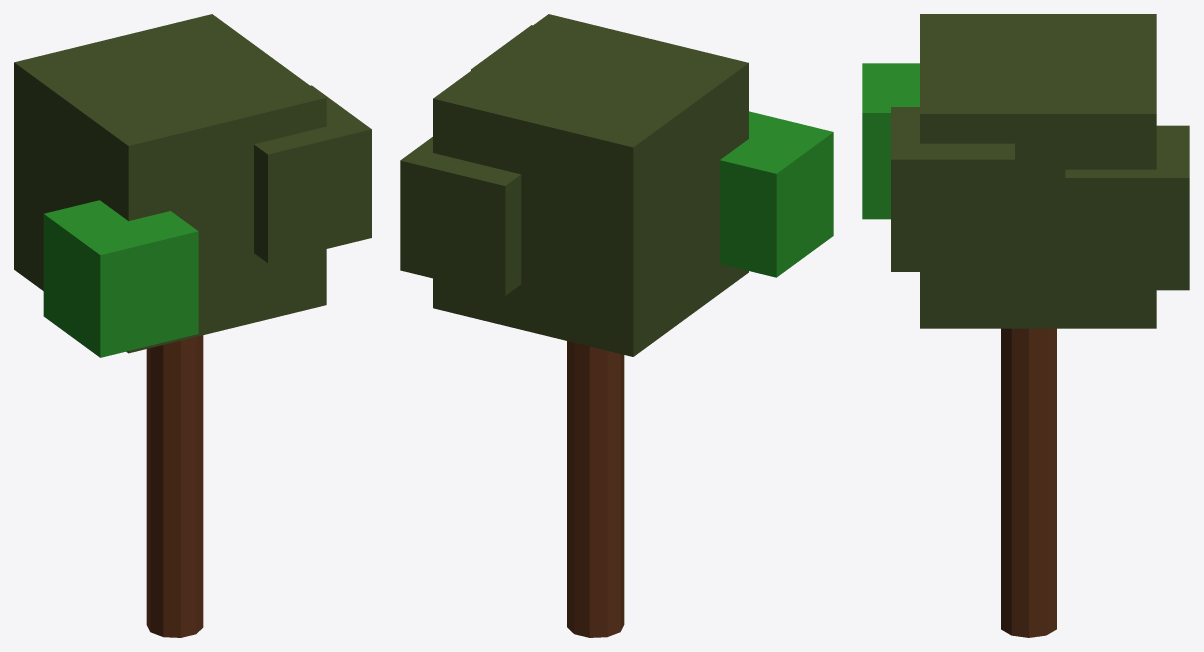
File: SimpleTreeTwo.fbx
3 renders of one model, left to right at view 1: azimuth 30°, elevation 25°; view 2: azimuth 150°, elevation 25°; view 3: azimuth 270°, elevation 25°, orthographic. The views are drawn at different scales.
Parts seen in each view (by area): view 1: pCube2, pCube5, pCylinder1, pCube1; view 2: pCube2, pCylinder1, pCube5, pCube6; view 3: pCube2, pCylinder1, pCube1, pCube6, pCube5.
Boxes of the visible parts, x1,y1,x2,y2 form: pCube2: (14,14,326,353); pCube5: (43,200,198,357); pCylinder1: (146,335,203,637); pCube1: (254,85,371,263); pCube2: (433,14,748,356); pCylinder1: (567,341,624,637); pCube5: (720,111,833,277); pCube6: (400,137,521,295); pCube2: (920,14,1156,328); pCylinder1: (1001,328,1056,637); pCube1: (891,107,1014,271); pCube6: (1065,125,1189,290); pCube5: (862,63,919,219).
Size of the model in its own units: 11.56 by 21.02 by 11.1.
1 material, 1 textured.
